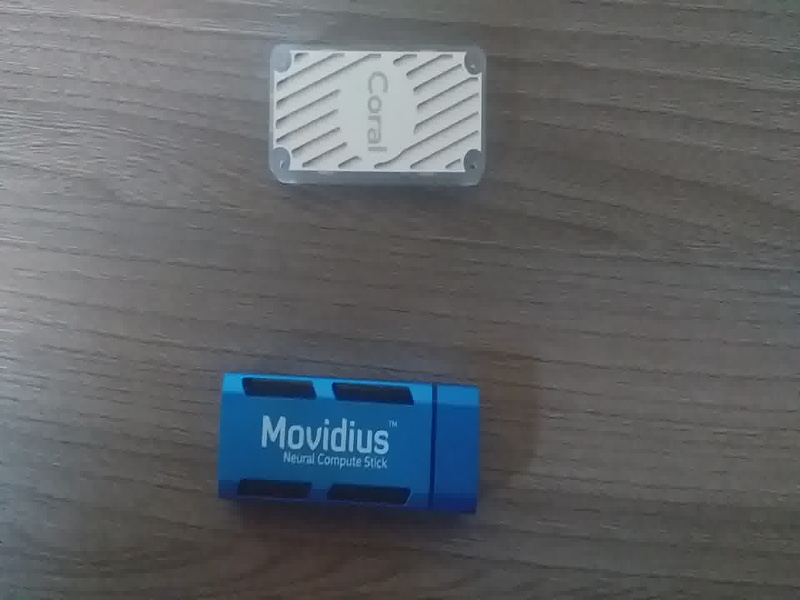coral: (256, 37, 490, 199)
movidius: (210, 365, 499, 524)
